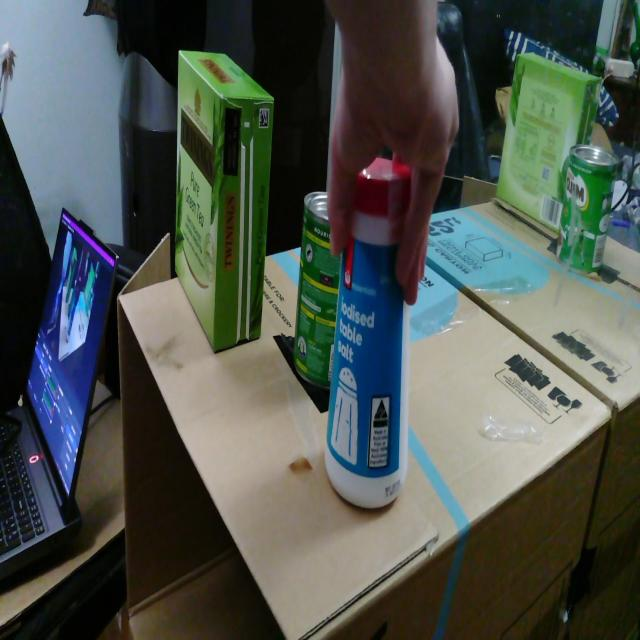nestle_milo_tin: (293, 192, 341, 388)
twinings_greentea_box: (175, 51, 274, 350)
woolworths_salt_bottle: (325, 158, 411, 508)
